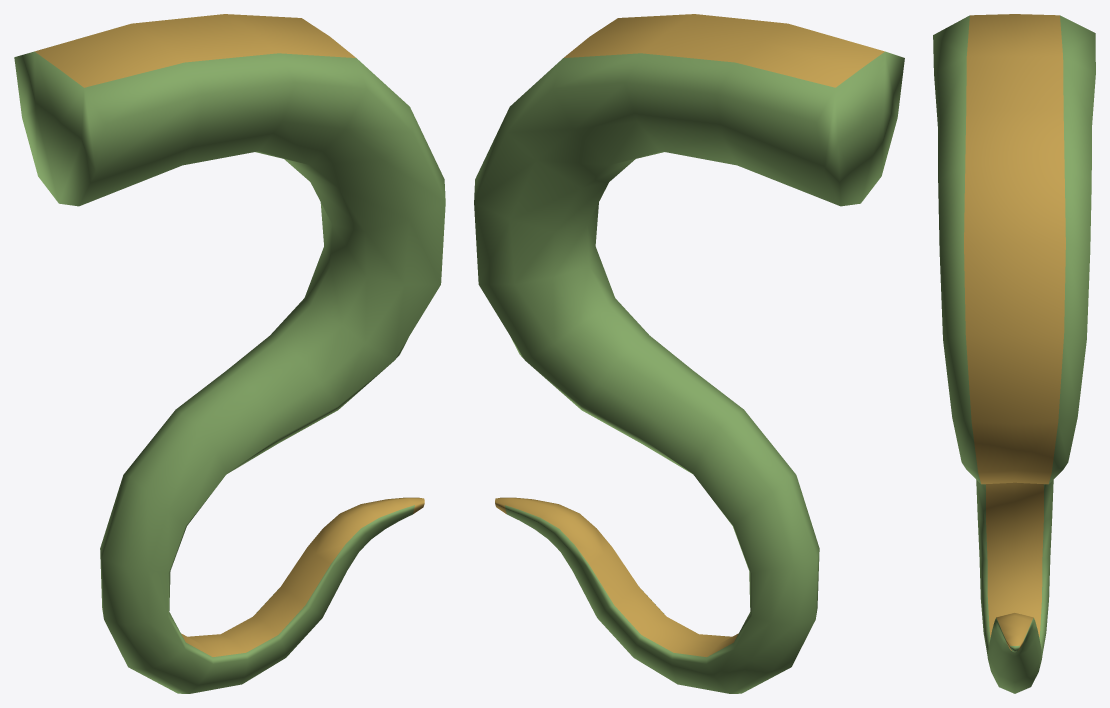
File: Tentacle_ingredient.fbx
The picture shows the model from 3 angles, left to right: view 1: azimuth 30°, elevation 25°; view 2: azimuth 150°, elevation 25°; view 3: azimuth 270°, elevation 25°; orthographic projection. The views are drawn at different scales.
Visible parts, largest first — view 1: Tentacle_ingrediente_low; view 2: Tentacle_ingrediente_low; view 3: Tentacle_ingrediente_low.
Boxes of the visible parts, bbox=[...] form: Tentacle_ingrediente_low: bbox=[14, 14, 445, 693]; Tentacle_ingrediente_low: bbox=[474, 14, 904, 693]; Tentacle_ingrediente_low: bbox=[933, 14, 1095, 693].
Size of the model in its own units: 22.9 by 39.53 by 9.74.
